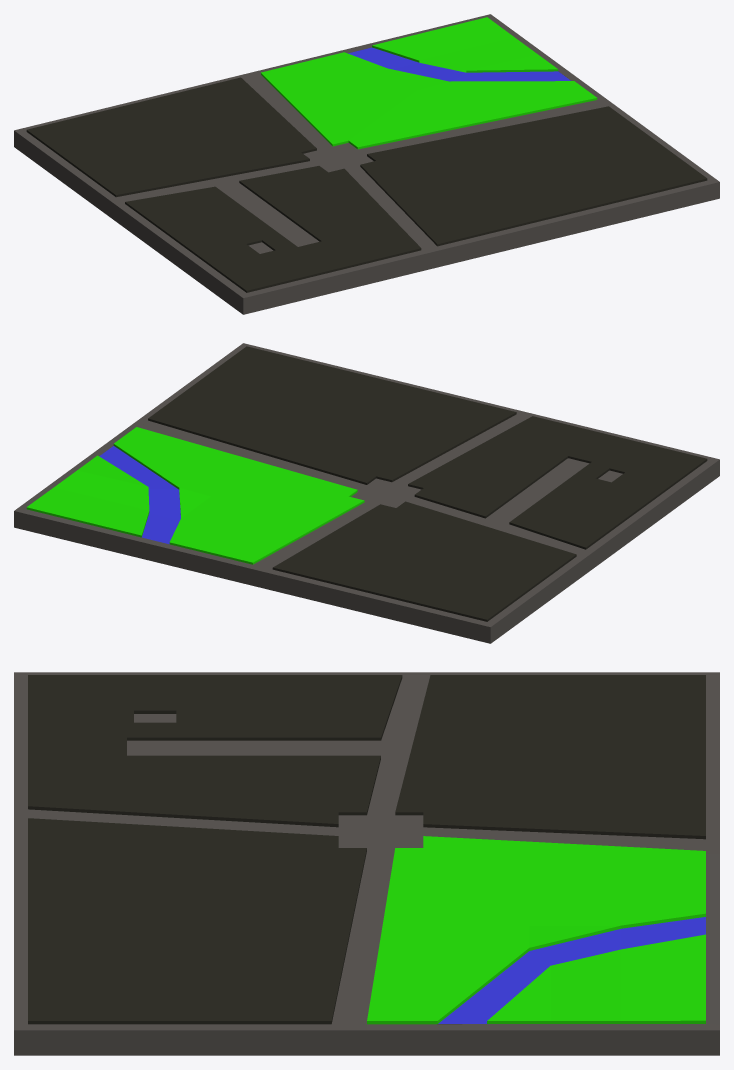
The model's file is Grundfläche3.fbx.
3 views of the same model, one above another, from view 1: azimuth 30°, elevation 25°; view 2: azimuth 150°, elevation 25°; view 3: azimuth 270°, elevation 25° (orthographic). The views are drawn at different scales.
Visible parts, largest first — view 1: Plane; view 2: Plane; view 3: Plane.
Part boxes in pixels (x1=…): Plane: x1=14, y1=14, x2=719, y2=314; Plane: x1=14, y1=343, x2=719, y2=643; Plane: x1=14, y1=672, x2=719, y2=1055.
Bounding box in the file's own units: 120 × 4.75 × 100.
